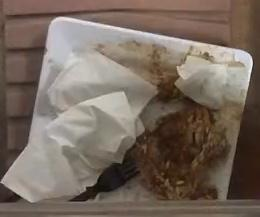fried_chicken: (125, 105, 228, 199)
